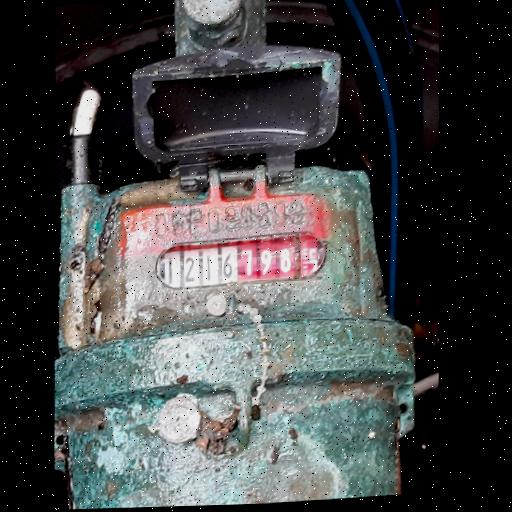1: (201, 246, 220, 285), (162, 250, 181, 288)
2: (182, 249, 201, 287)
5: (297, 234, 322, 277)
6: (219, 244, 240, 283)
7: (237, 239, 256, 282)
8: (275, 234, 296, 279)
9: (257, 238, 276, 281)
border_water_meter_number: (153, 228, 330, 293)
